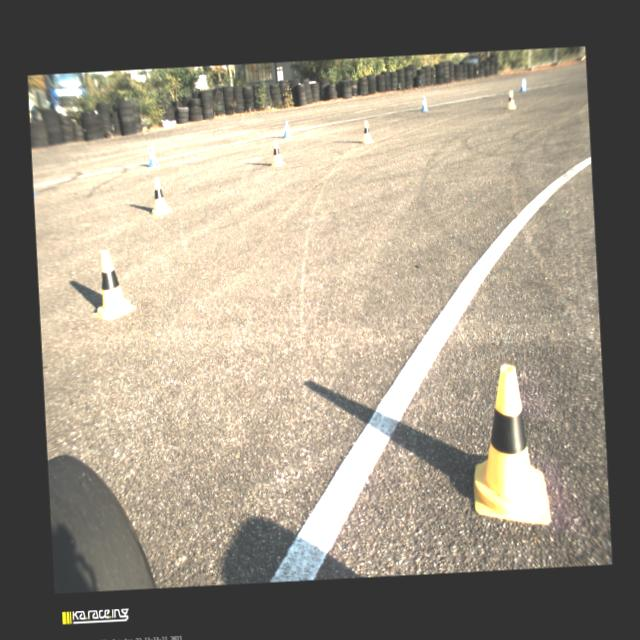blue_cone: (146, 144, 160, 168), (282, 120, 292, 139), (420, 95, 429, 112), (518, 78, 527, 92)
yellow_cone: (468, 362, 552, 530), (89, 248, 138, 322), (149, 176, 173, 217), (268, 138, 284, 168), (360, 119, 374, 144), (506, 89, 518, 111)
